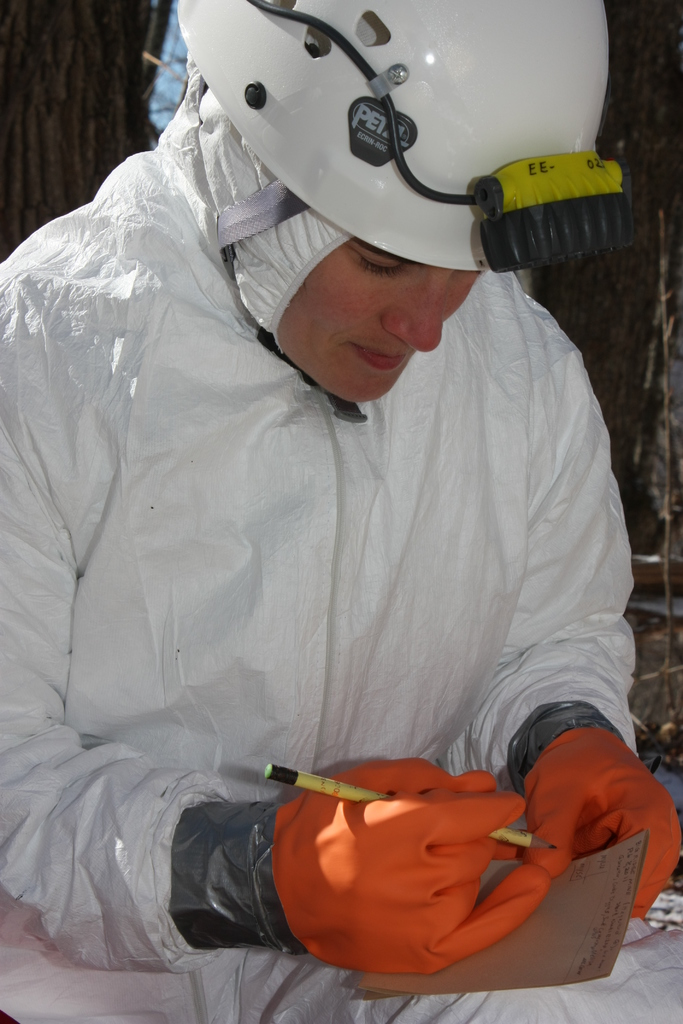Person: (0, 0, 682, 1024)
